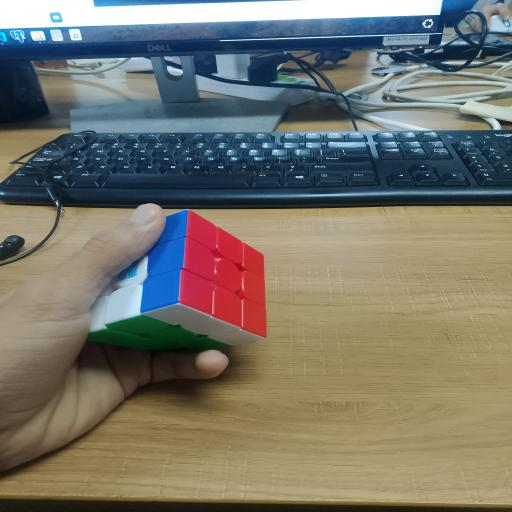cubic: (59, 200, 288, 363)
